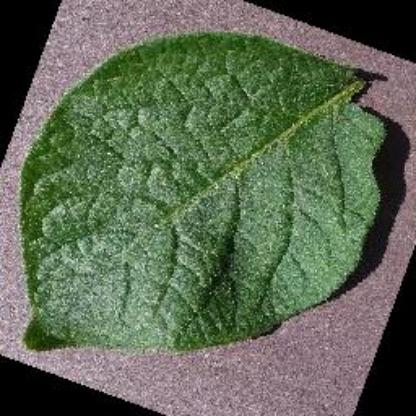Healthy-plant: (18, 3, 400, 361)
